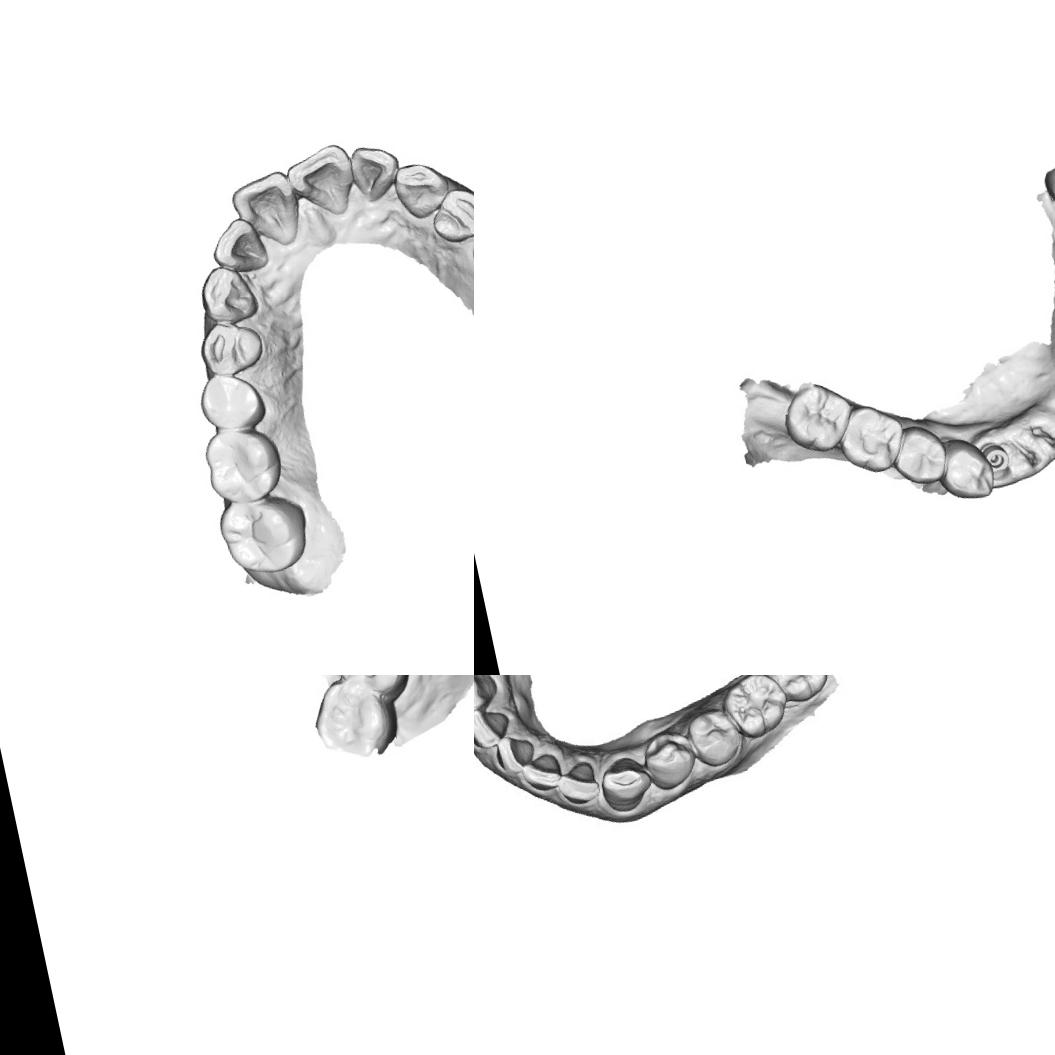canine: (194, 258, 264, 330), (387, 154, 455, 225), (594, 752, 655, 820), (474, 675, 500, 713)
implant: (980, 440, 1012, 475)
incisor: (280, 139, 364, 230), (226, 166, 306, 256), (205, 212, 272, 280), (345, 137, 408, 207), (550, 754, 600, 810), (523, 750, 565, 793), (494, 732, 538, 773), (474, 706, 508, 750)
molar: (212, 488, 314, 584), (201, 417, 294, 512), (307, 675, 404, 765), (776, 373, 861, 459), (832, 398, 911, 481), (726, 675, 790, 738), (767, 675, 830, 703), (1038, 151, 1055, 212)
premolar: (192, 366, 270, 436), (930, 430, 998, 506), (193, 314, 267, 380), (888, 420, 952, 490), (640, 728, 698, 790), (423, 180, 474, 247), (327, 675, 416, 711), (690, 710, 742, 768)
